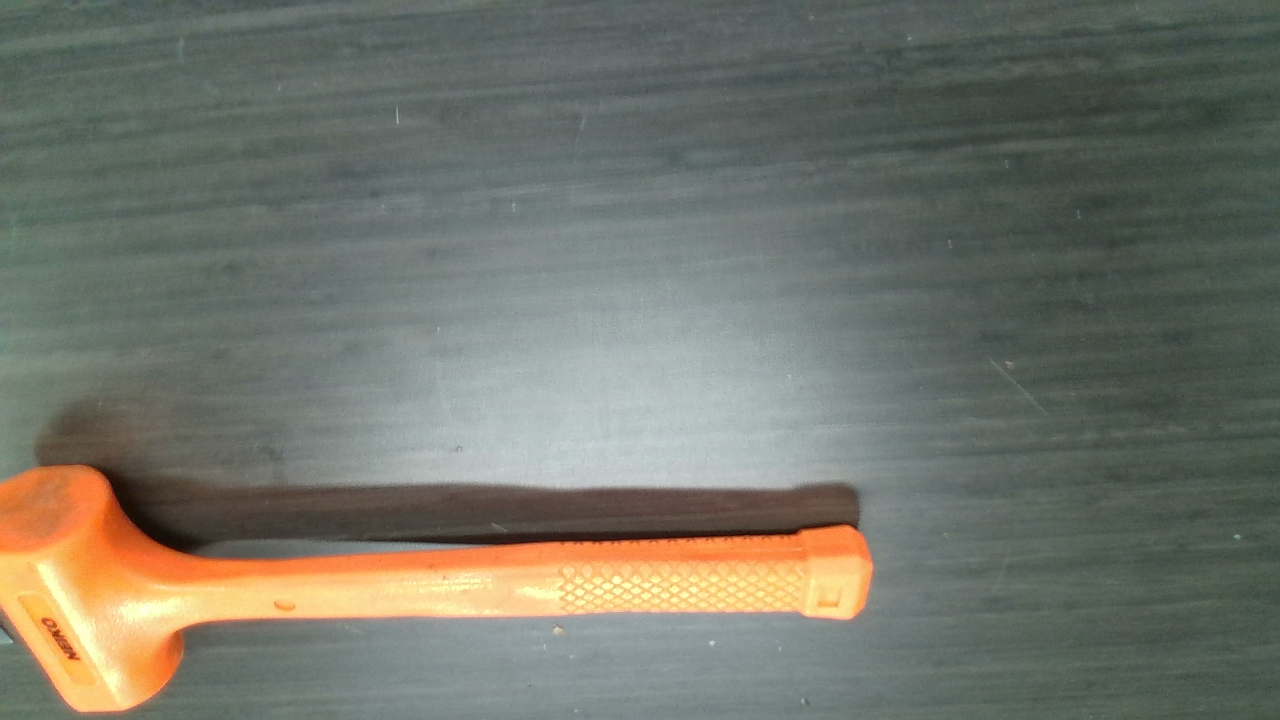Orange Hammer: (8, 468, 873, 709)
